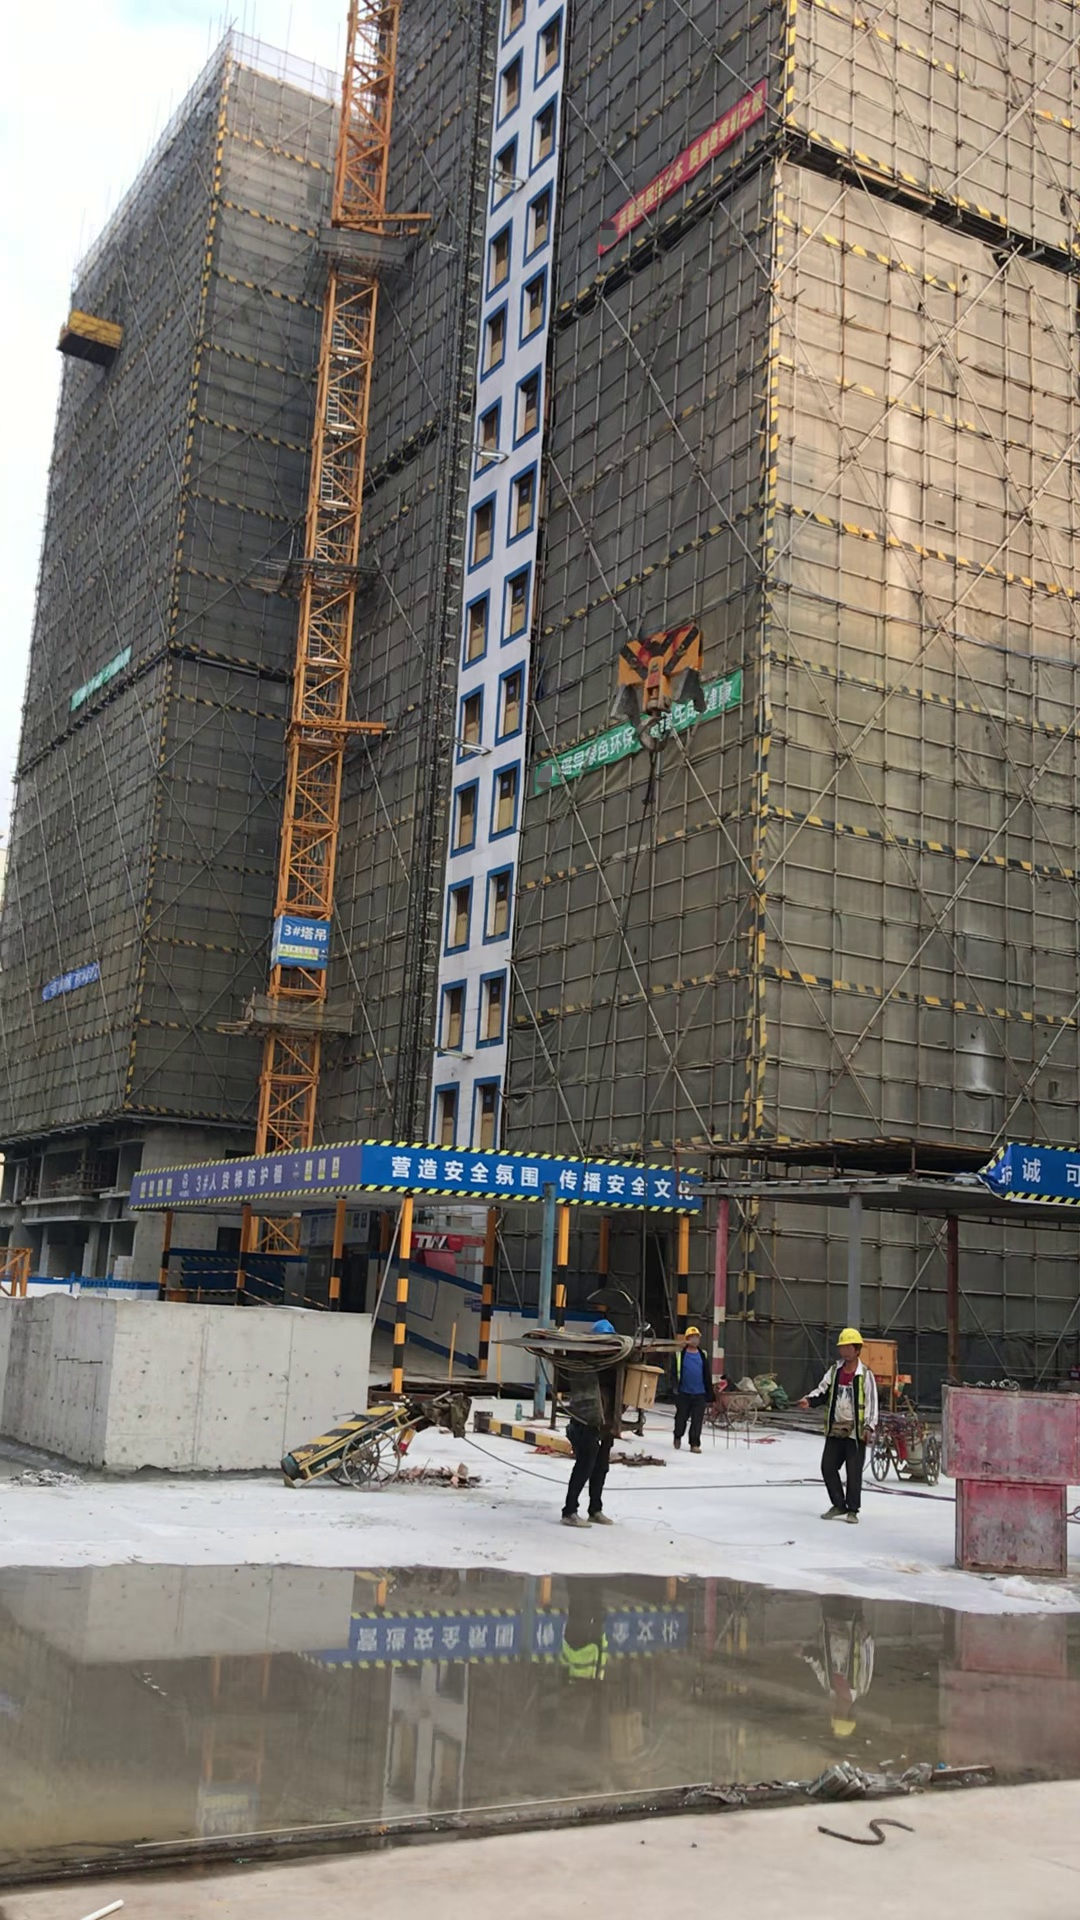ebox: (622, 1361, 668, 1409), (872, 1334, 908, 1380)
handcart: (712, 1387, 765, 1431)
helmet: (835, 1323, 865, 1348), (590, 1319, 615, 1333), (683, 1324, 704, 1336)
hook: (603, 622, 709, 751)
person: (548, 1316, 638, 1528), (796, 1318, 880, 1532), (668, 1319, 732, 1456)
slogan: (605, 82, 770, 255), (534, 684, 751, 803), (395, 1130, 693, 1211), (122, 1140, 372, 1213), (72, 649, 132, 711), (43, 962, 101, 1003)
vest: (828, 1363, 872, 1443)
